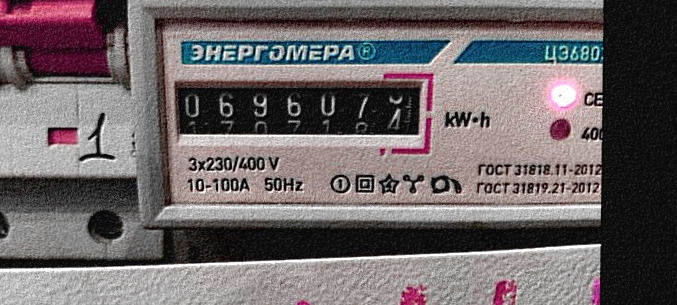0: (319, 88, 337, 118), (184, 91, 201, 119)
4: (386, 104, 403, 133)
6: (286, 89, 303, 118), (218, 90, 235, 118)
7: (353, 90, 372, 121)
9: (251, 90, 269, 119)
screen: (162, 66, 440, 154)
